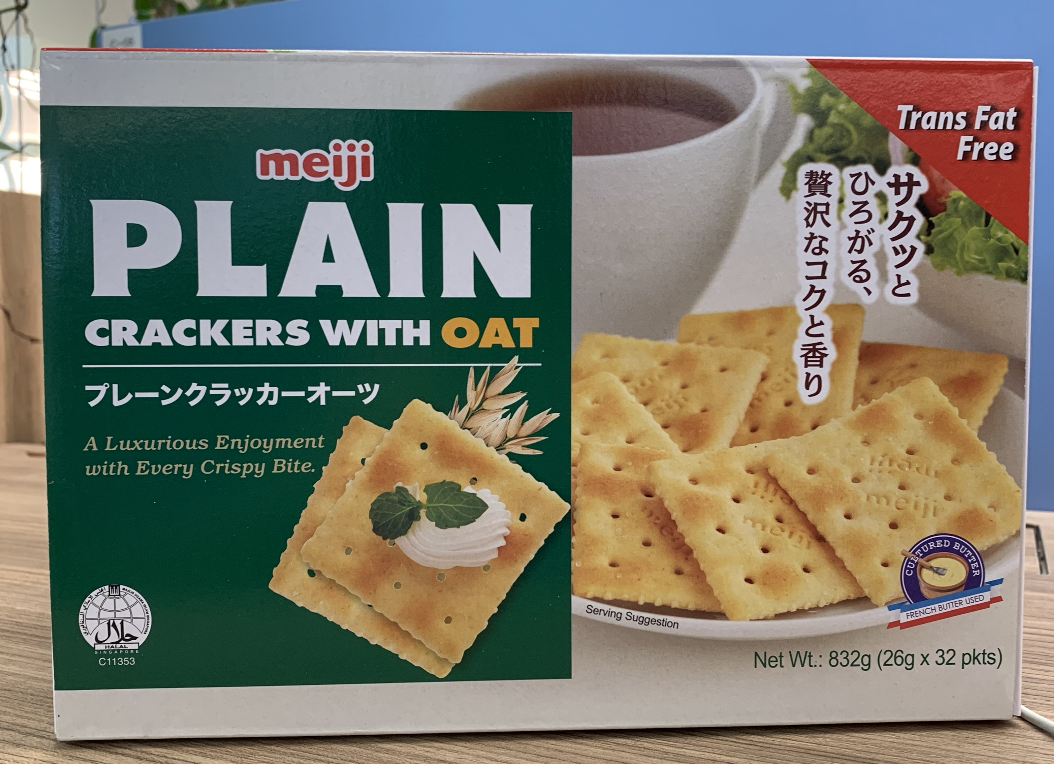crackers_550g: (58, 98, 1022, 688)
